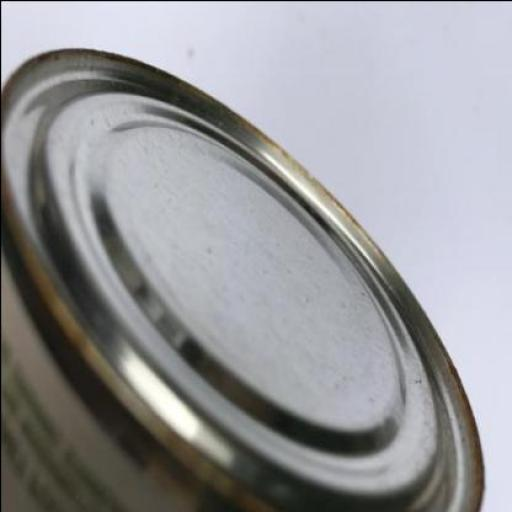metal: (1, 46, 484, 510)
